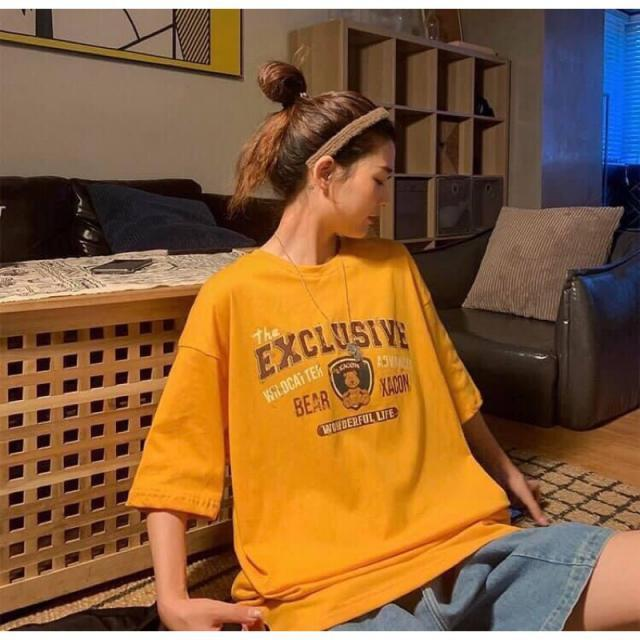Shirt: (120, 237, 526, 627)
